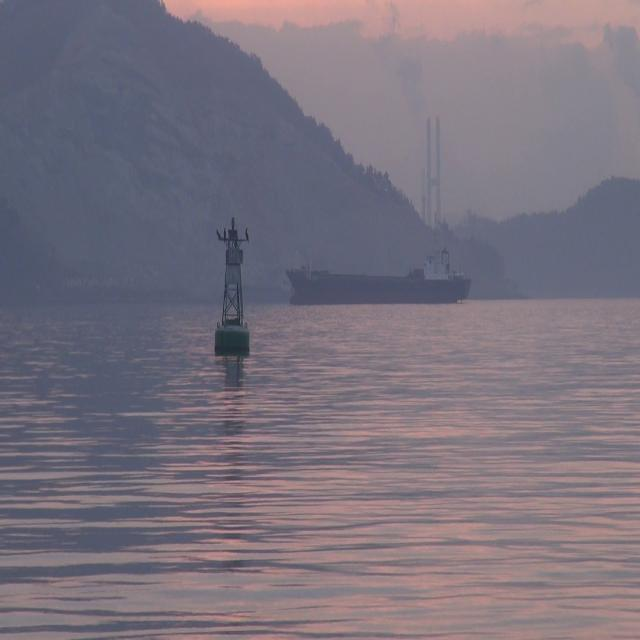ship: (286, 245, 471, 304)
